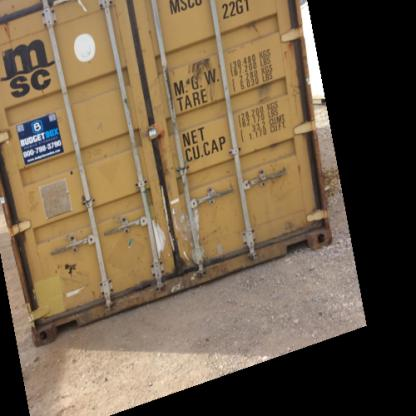Damage: (144, 199, 232, 280), (17, 171, 86, 224), (281, 35, 315, 111), (261, 154, 312, 204), (41, 255, 94, 301), (178, 52, 224, 97), (85, 111, 121, 154), (0, 6, 23, 56), (235, 15, 266, 37)
